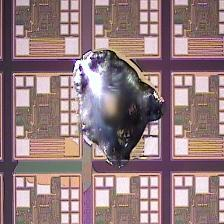PARTICLE: (71, 48, 168, 170)
